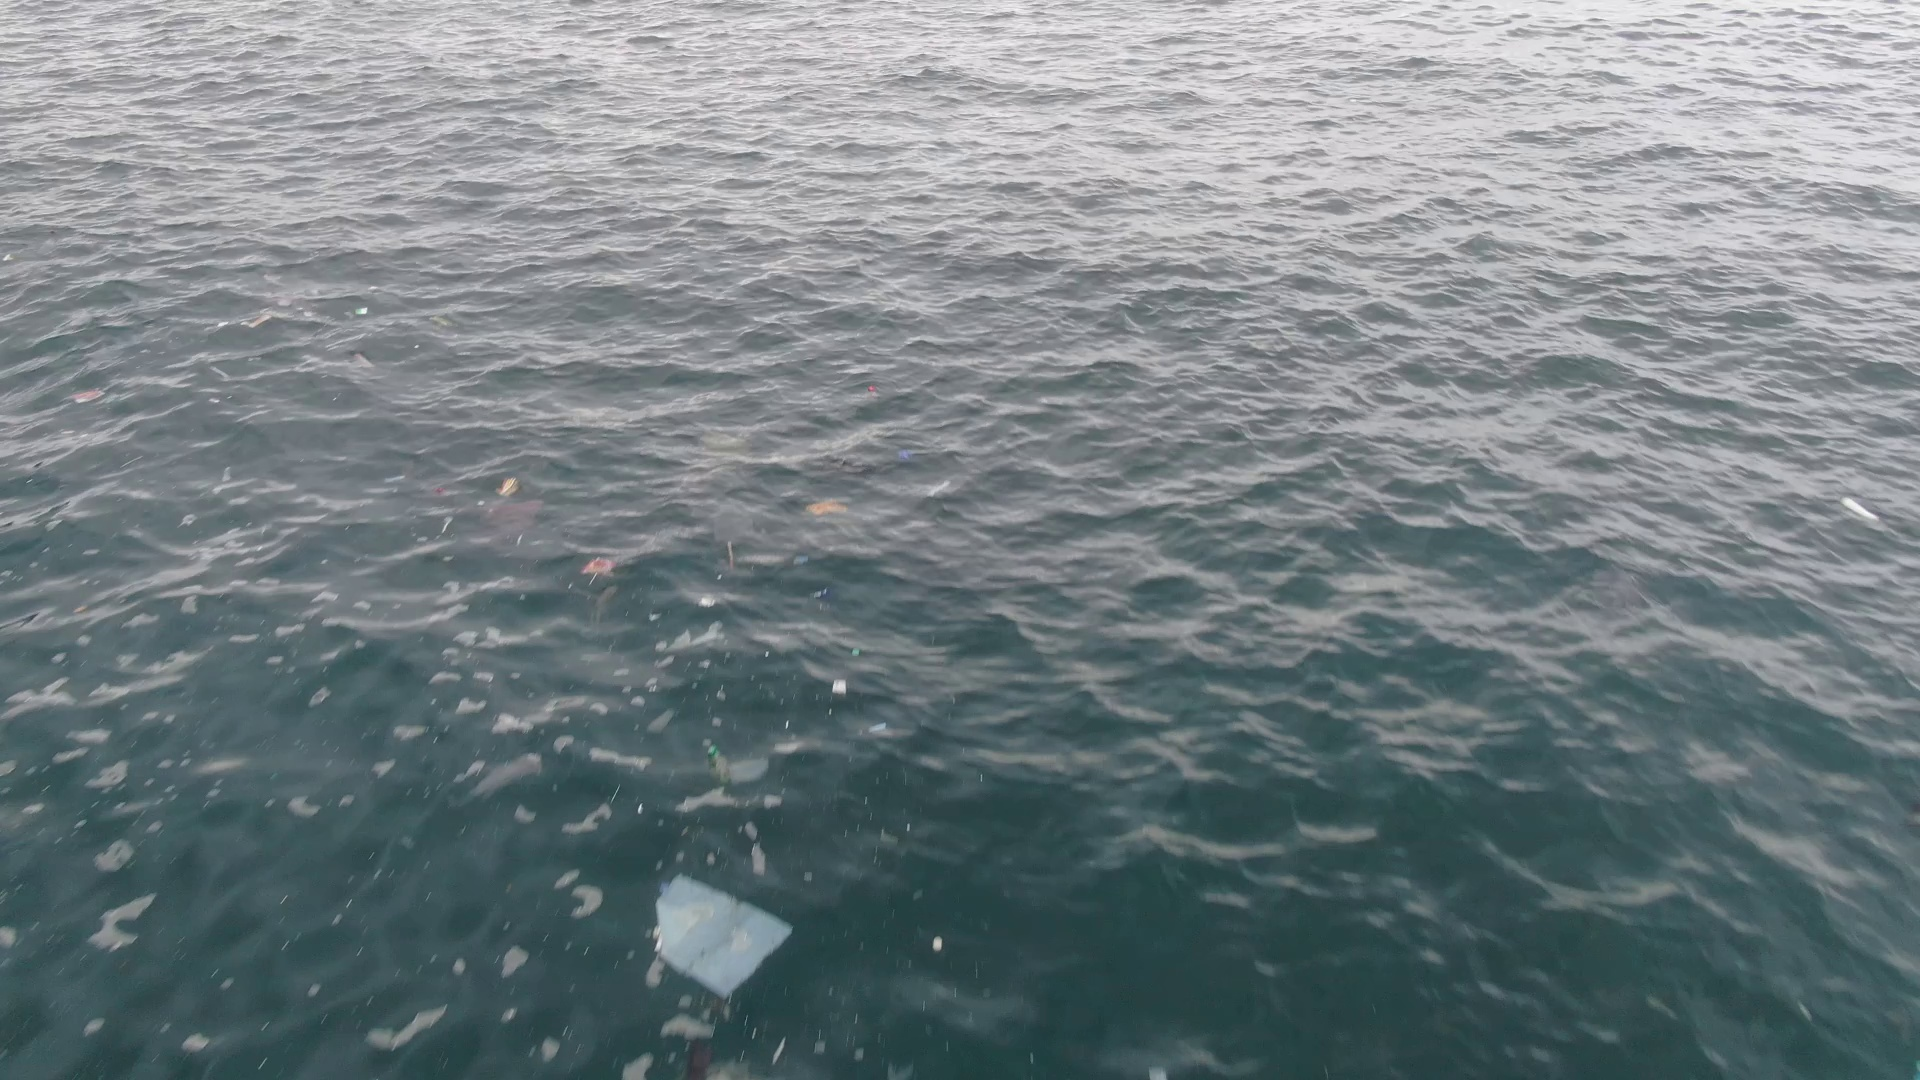garbage: (655, 874, 795, 997), (436, 476, 575, 564), (700, 735, 735, 785), (1840, 491, 1884, 527), (688, 1040, 709, 1080), (806, 501, 848, 520), (582, 556, 616, 575), (825, 676, 851, 695), (239, 316, 274, 328), (928, 477, 949, 496), (811, 589, 836, 604), (724, 539, 736, 568), (352, 306, 371, 316), (898, 450, 913, 460), (866, 384, 878, 394), (794, 556, 808, 564)
